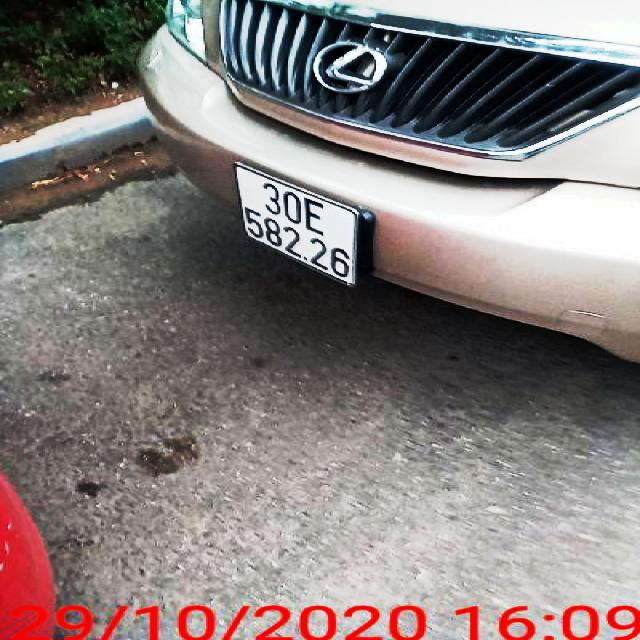license_plate: (237, 164, 367, 285)
